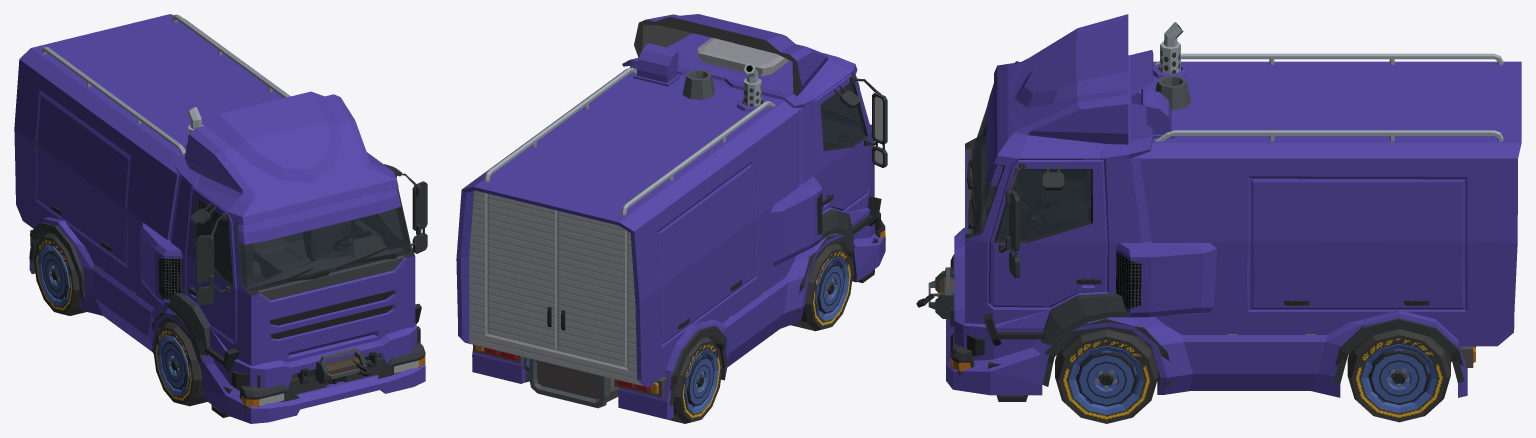
File: redline_street_truck.glb
The picture shows the model from 3 angles, left to right: view 1: azimuth 30°, elevation 25°; view 2: azimuth 150°, elevation 25°; view 3: azimuth 270°, elevation 25°; orthographic projection. The views are drawn at different scales.
Visible parts, largest first — view 1: V_Rear_Bumper_03, Body, V_Roof_02, V_Front_Bumper_02, Glass, Door_R, V_Front_Bumper_01, V_Side_Skirts_02, V_Windscreen_Sticker_01, V_Front_Bumper_04, Door_L, V_Front_Bumper_03 (+6 smaller); view 2: V_Rear_Bumper_03, Body, V_Side_Skirts_02, Door_R, V_Roof_02, W_Wheel_FR_03, V_Roof_01, W_Wheel_RR_03, V_Front_Bumper_02, V_Roof_04, V_Front_Bumper_01, V_Fenders_03 (+4 smaller); view 3: V_Rear_Bumper_03, Door_L, Body, V_Roof_02, V_Side_Skirts_02, V_Front_Bumper_02, W_Wheel_FL_03, W_Wheel_RL_03, V_Front_Bumper_01, V_Fenders_03, V_Roof_04, W_Wheel_RL_06 (+10 smaller).
Boxes of the visible parts, bbox=[...] form: V_Rear_Bumper_03: bbox=[14, 14, 290, 306]; Body: bbox=[30, 152, 415, 351]; V_Roof_02: bbox=[184, 91, 379, 203]; V_Front_Bumper_02: bbox=[162, 304, 425, 423]; Glass: bbox=[239, 207, 409, 290]; Door_R: bbox=[186, 187, 237, 342]; V_Front_Bumper_01: bbox=[167, 293, 425, 417]; V_Side_Skirts_02: bbox=[29, 217, 166, 351]; V_Windscreen_Sticker_01: bbox=[238, 187, 400, 244]; V_Front_Bumper_04: bbox=[233, 312, 415, 366]; Door_L: bbox=[355, 164, 427, 253]; V_Front_Bumper_03: bbox=[231, 326, 420, 388]; V_Rear_Bumper_03: bbox=[456, 43, 822, 387]; Body: bbox=[473, 33, 874, 408]; V_Side_Skirts_02: bbox=[472, 254, 817, 419]; Door_R: bbox=[814, 73, 887, 212]; V_Roof_02: bbox=[632, 14, 837, 96]; W_Wheel_FR_03: bbox=[800, 244, 853, 331]; V_Roof_01: bbox=[697, 37, 788, 76]; W_Wheel_RR_03: bbox=[674, 337, 722, 423]; V_Front_Bumper_02: bbox=[794, 208, 885, 282]; V_Roof_04: bbox=[622, 57, 816, 107]; V_Front_Bumper_01: bbox=[820, 196, 885, 283]; V_Fenders_03: bbox=[669, 234, 854, 391]; V_Rear_Bumper_03: bbox=[1116, 22, 1521, 346]; Door_L: bbox=[988, 159, 1107, 307]; Body: bbox=[965, 62, 1475, 367]; V_Roof_02: bbox=[1007, 14, 1128, 153]; V_Side_Skirts_02: bbox=[1132, 309, 1467, 397]; V_Front_Bumper_02: bbox=[946, 227, 1164, 395]; W_Wheel_FL_03: bbox=[1055, 330, 1158, 423]; W_Wheel_RL_03: bbox=[1347, 329, 1450, 422]; V_Front_Bumper_01: bbox=[950, 254, 1129, 401]; V_Fenders_03: bbox=[1045, 318, 1463, 366]; V_Roof_04: bbox=[1100, 50, 1153, 158]; W_Wheel_RL_06: bbox=[1354, 340, 1446, 404].
Size of the model in its own units: 2.67 by 3 by 5.07.
4 materials, 3 textured.
